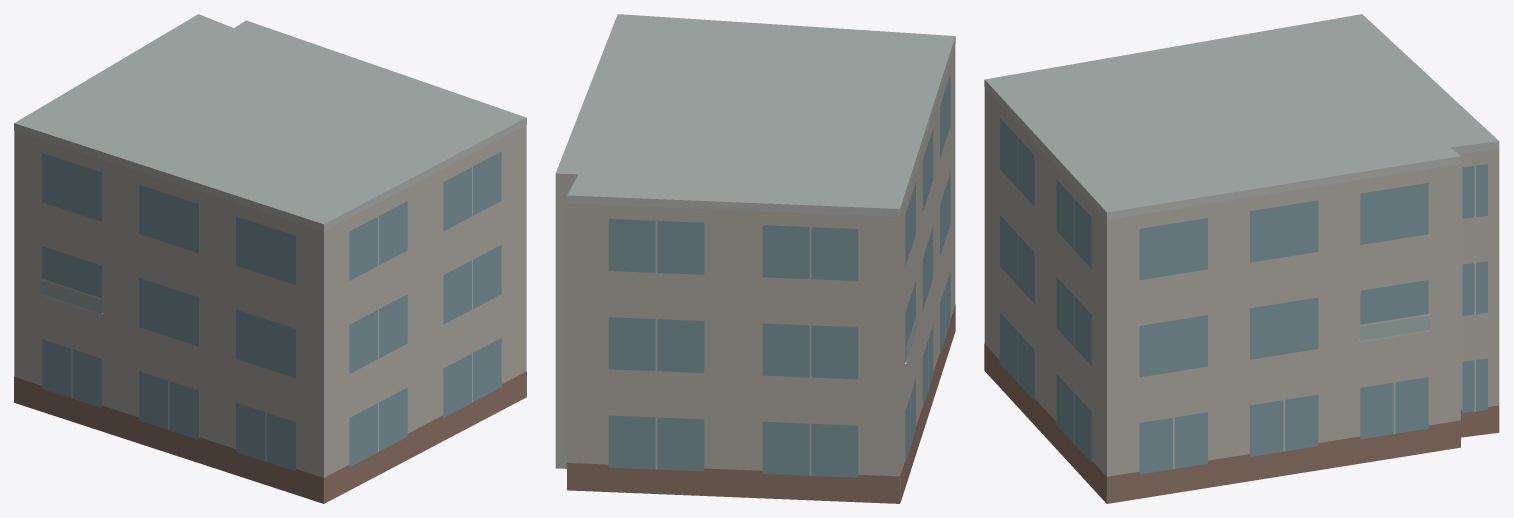
File: survey-upis-32834297.glb
The picture shows the model from 3 angles, left to right: view 1: azimuth 30°, elevation 25°; view 2: azimuth 150°, elevation 25°; view 3: azimuth 270°, elevation 25°; orthographic projection. The views are drawn at different scales.
Visible parts, largest first — view 1: survey-upis-32834297.tmp; view 2: survey-upis-32834297.tmp; view 3: survey-upis-32834297.tmp.
Boxes of the visible parts, x1,y1,x2,y2 form: survey-upis-32834297.tmp: (14,14,526,503); survey-upis-32834297.tmp: (555,14,955,503); survey-upis-32834297.tmp: (984,14,1499,503).
Size of the model in its own units: 13.37 by 9.15 by 14.65.
